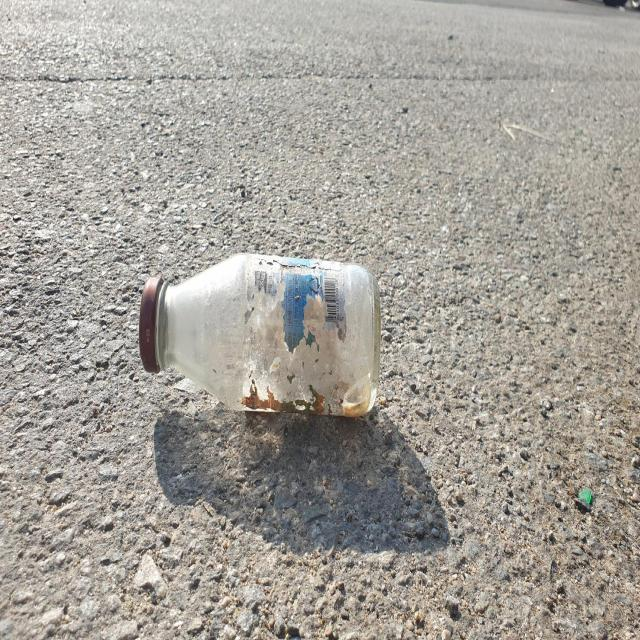glass: (139, 252, 381, 416)
